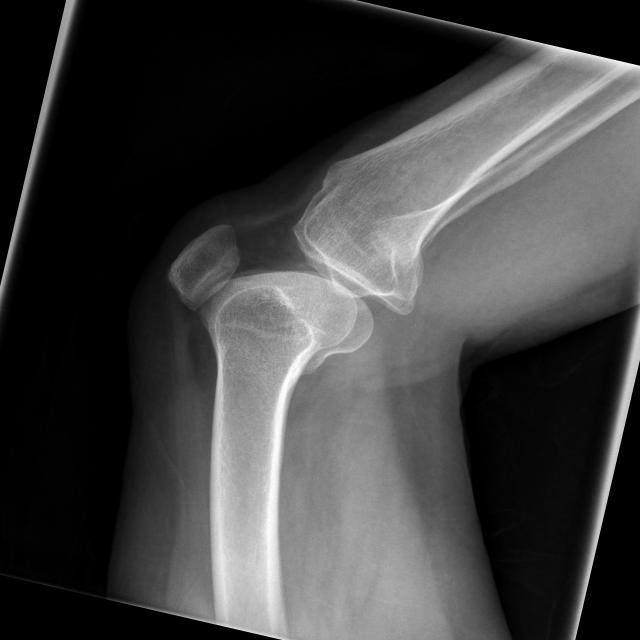Knee: (151, 156, 440, 389)
